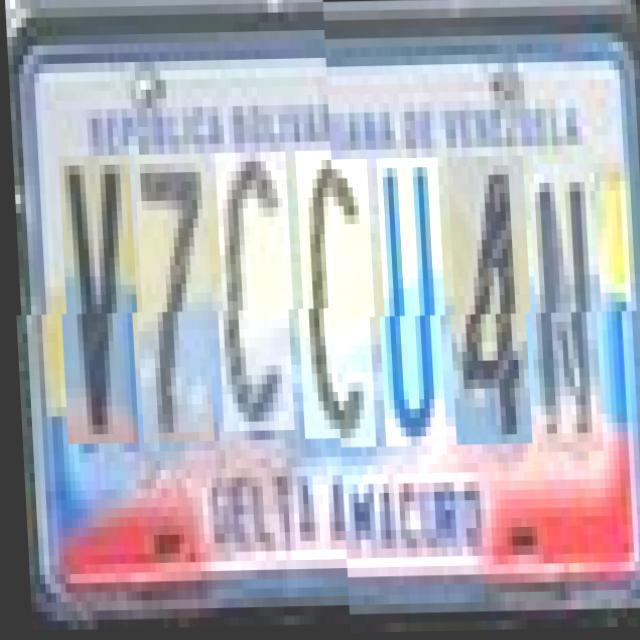4: (445, 158, 532, 446)
7: (133, 163, 215, 452)
C: (294, 160, 376, 450), (214, 162, 296, 442)
N: (526, 166, 604, 455)
U: (374, 159, 446, 448)
V: (57, 164, 139, 453)
